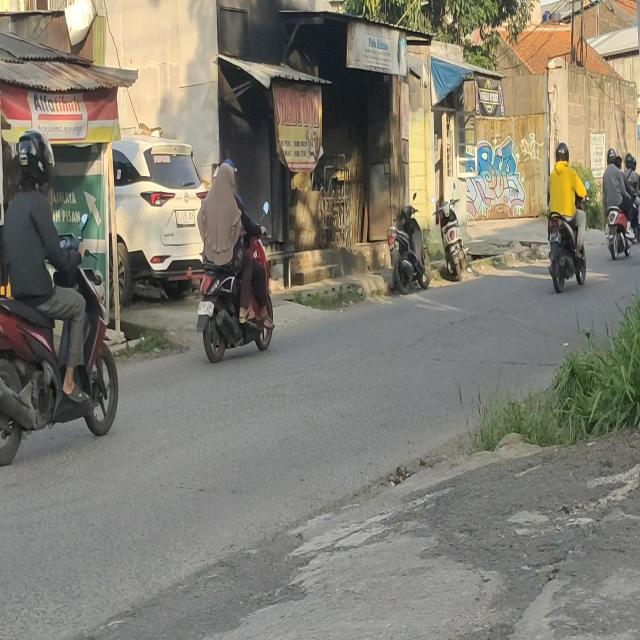helmet: (18, 131, 50, 189), (556, 142, 569, 164), (607, 149, 616, 165), (625, 153, 632, 168), (633, 156, 637, 171)
no-helmet: (219, 163, 234, 191), (224, 158, 238, 175), (616, 156, 622, 169)
